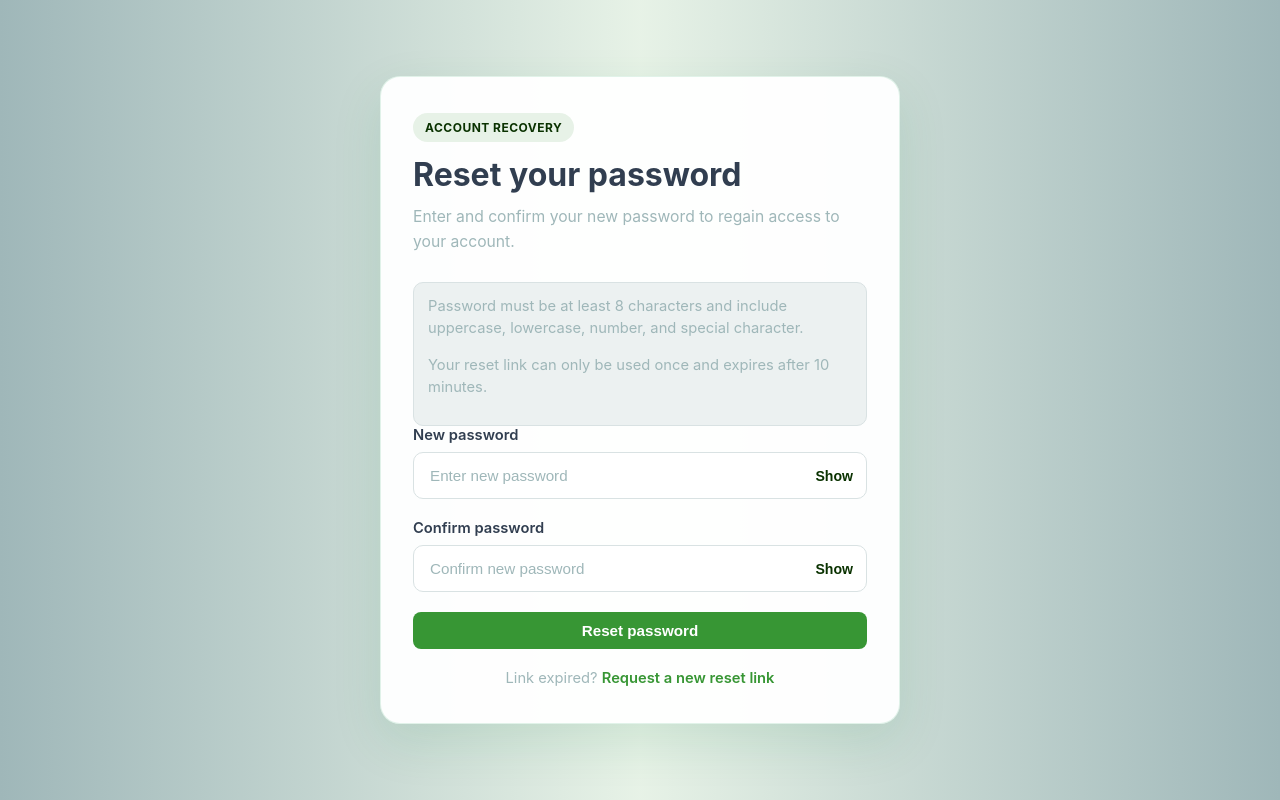
Scenario: ResetPasswordPage › shows password complexity validation errors
This screenshot has width=1280, height=800.
In the password field labelled "New password": (640, 476) left=413, top=452, right=867, bottom=499, type "password"
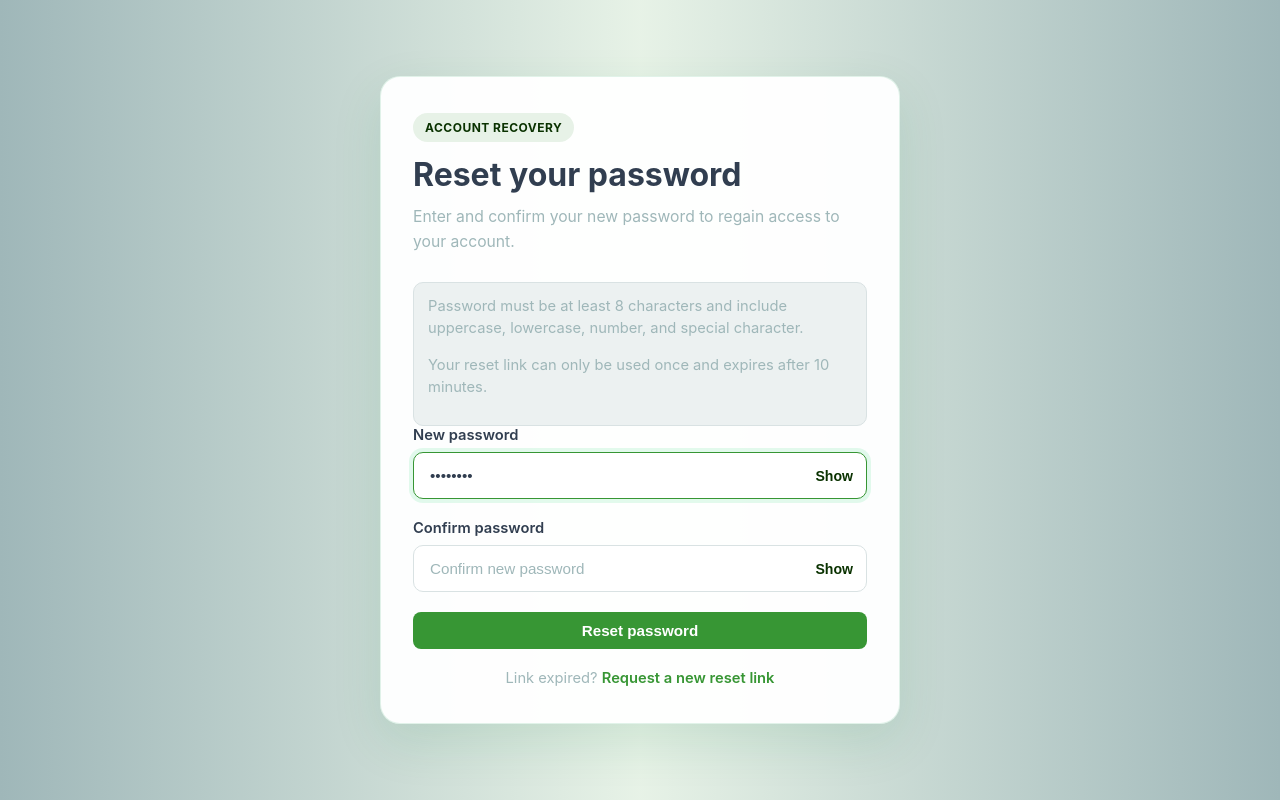
In the password field labelled "Confirm password": (640, 569) left=413, top=545, right=867, bottom=592, type "password"
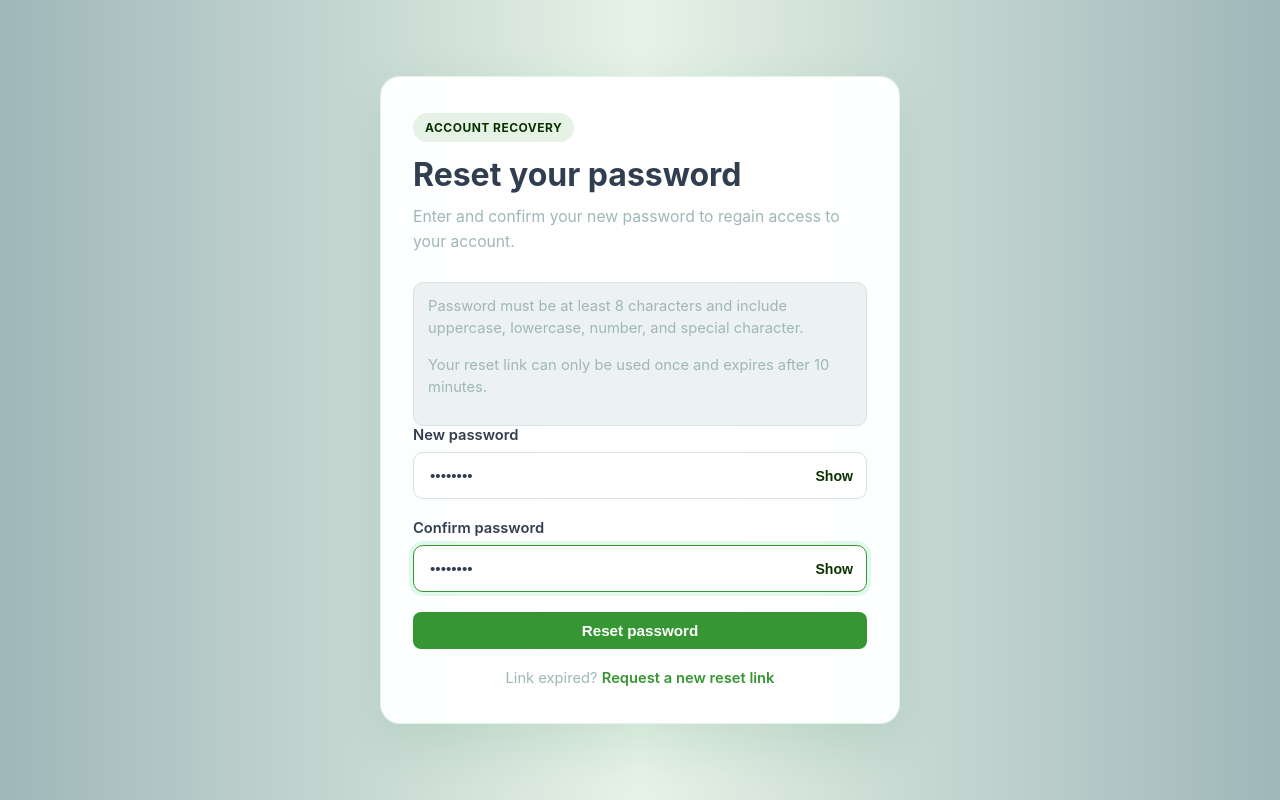
Click the button "Reset password": (640, 631) left=413, top=612, right=867, bottom=649
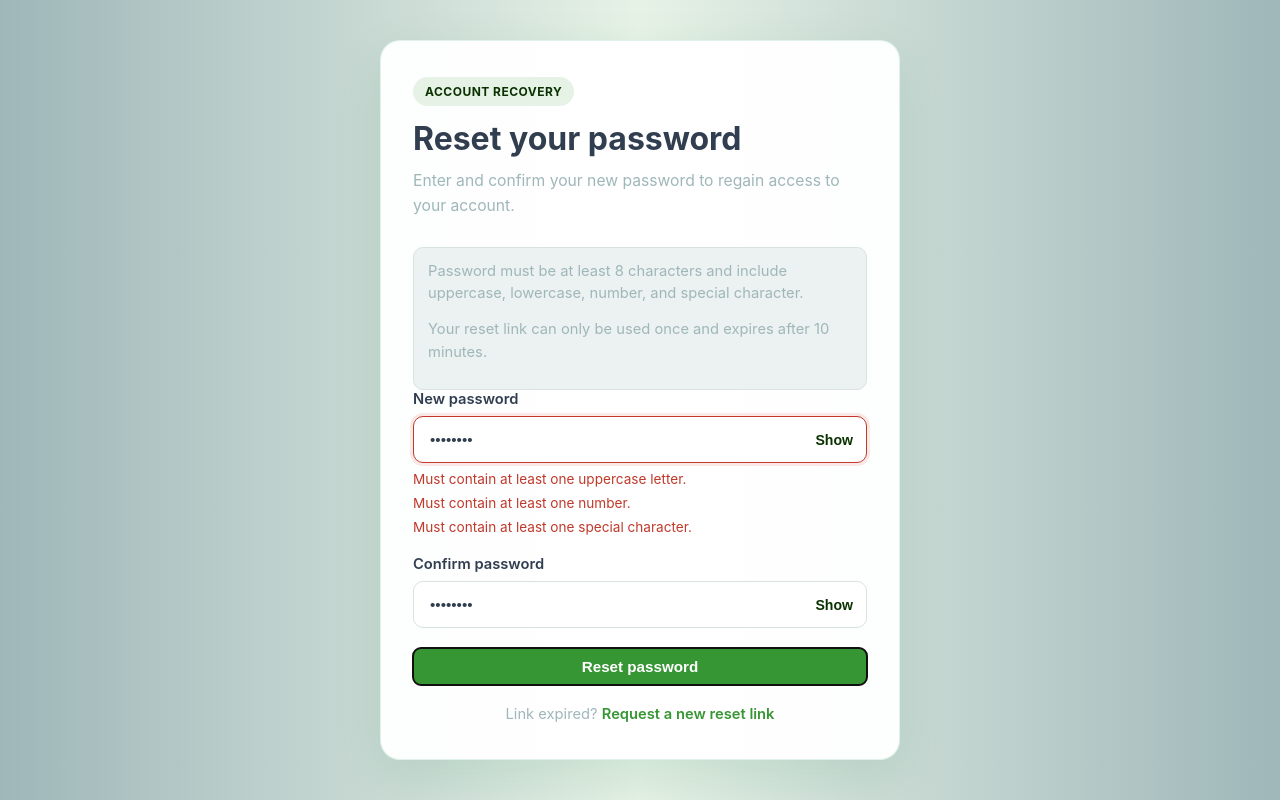
Result: the text "Must contain at least one uppercase letter." is shown at left=413, top=471, right=686, bottom=487
Result: the text "Must contain at least one number." is shown at left=413, top=495, right=631, bottom=511
Result: the text "Must contain at least one special character." is shown at left=413, top=519, right=692, bottom=535
